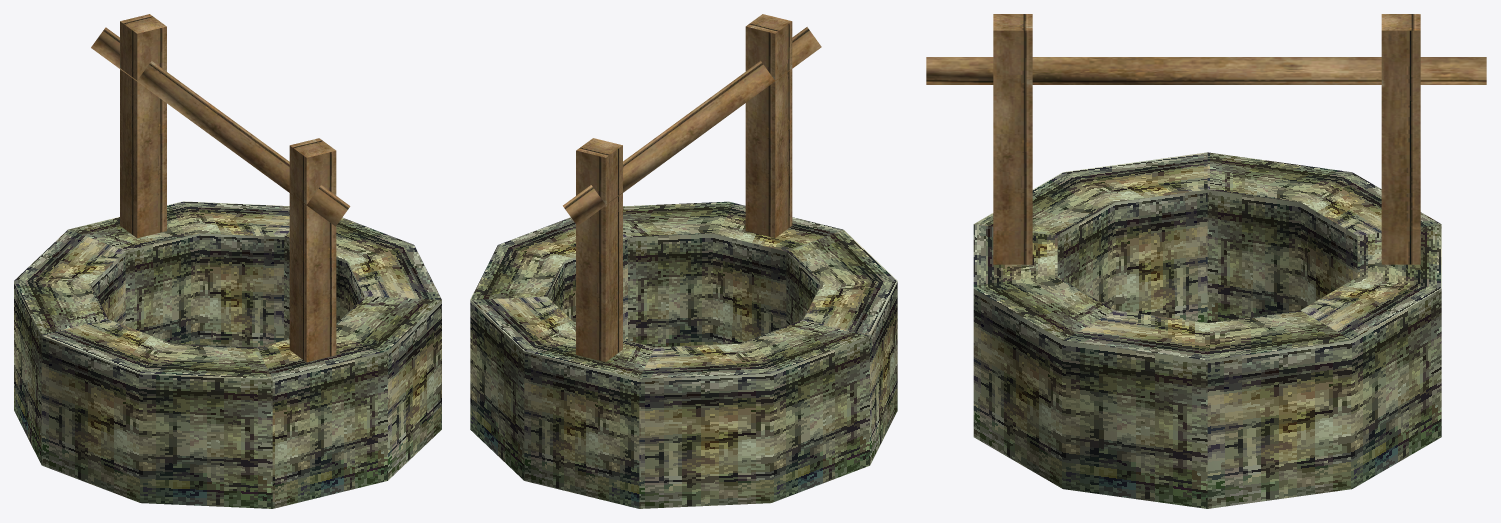
File: pozo.glb
3 renders of one model, left to right at view 1: azimuth 30°, elevation 25°; view 2: azimuth 150°, elevation 25°; view 3: azimuth 270°, elevation 25°, orthographic. The views are drawn at different scales.
Visible parts, largest first — view 1: Pozo, Madera; view 2: Pozo, Madera; view 3: Pozo, Madera.
Boxes of the visible parts, x1,y1,x2,y2 form: Pozo: (14, 201, 441, 508); Madera: (91, 14, 350, 362); Pozo: (470, 201, 897, 508); Madera: (563, 14, 821, 361); Pozo: (973, 152, 1441, 508); Madera: (926, 14, 1486, 264).
Size of the model in its own units: 1.66 by 1.43 by 1.89.
2 materials, 2 textured.
